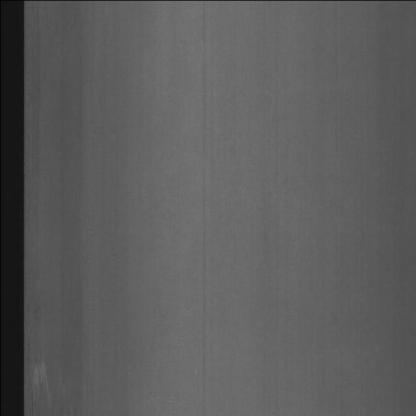silk_spot: (26, 348, 58, 407)
